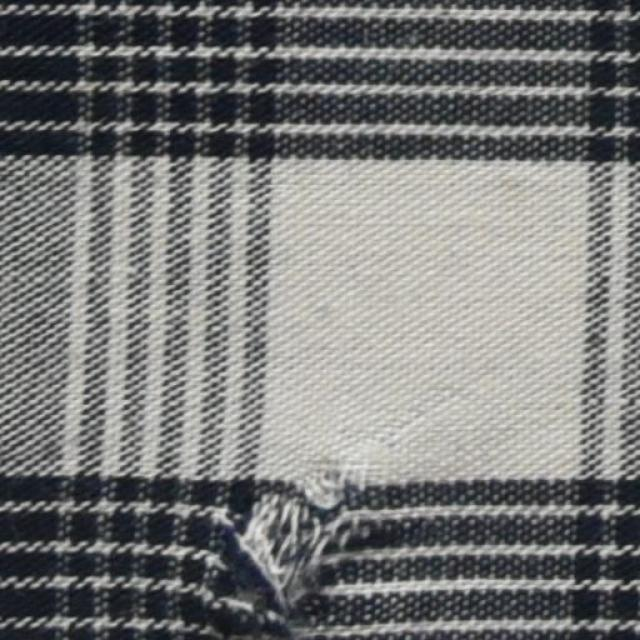Snag: (206, 453, 367, 639)
